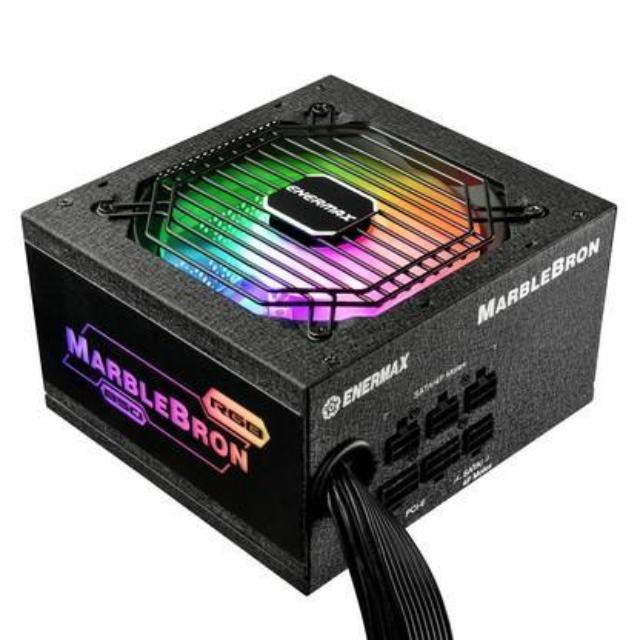PSU: (13, 43, 622, 617)
